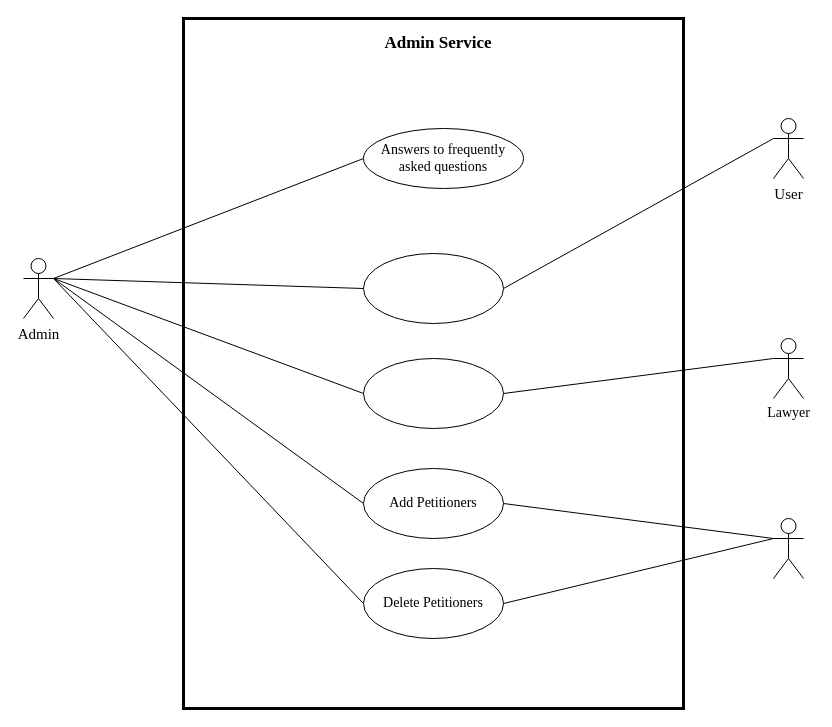
Some shapes in this 832 by 727 pixel diagram are drawn without their labels. The centre of each missing label's shape, as x and y in pixels:
Delete the lawyer: point 433,393
Investigate complaints: point 433,288
Petitioner: point 788,548
